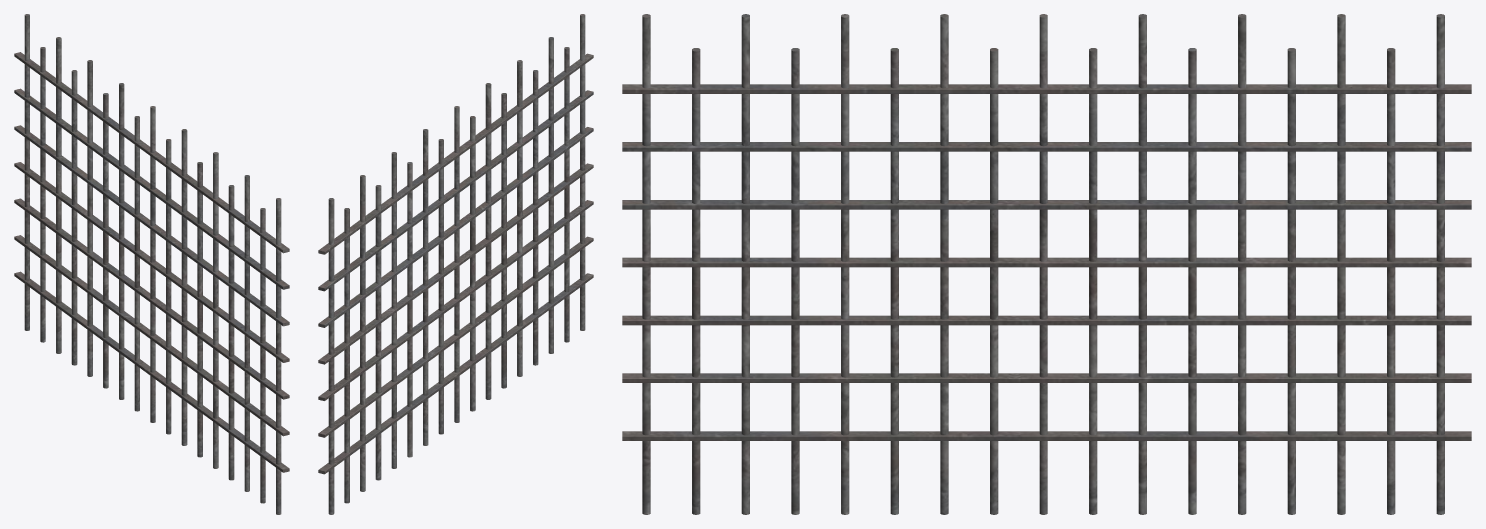
File: SM_Cell_Side.glb
3 renders of one model, left to right at view 1: azimuth 30°, elevation 25°; view 2: azimuth 150°, elevation 25°; view 3: azimuth 270°, elevation 25°, orthographic. The views are drawn at different scales.
Parts seen in each view (by area): view 1: SM_Cell_Side; view 2: SM_Cell_Side; view 3: SM_Cell_Side.
Boxes of the visible parts, bbox=[...] form: SM_Cell_Side: bbox=[14, 14, 289, 514]; SM_Cell_Side: bbox=[318, 14, 593, 514]; SM_Cell_Side: bbox=[622, 14, 1471, 514].
Size of the model in its own units: 0.0827 by 3.69 by 5.7.
1 material, 1 textured.
